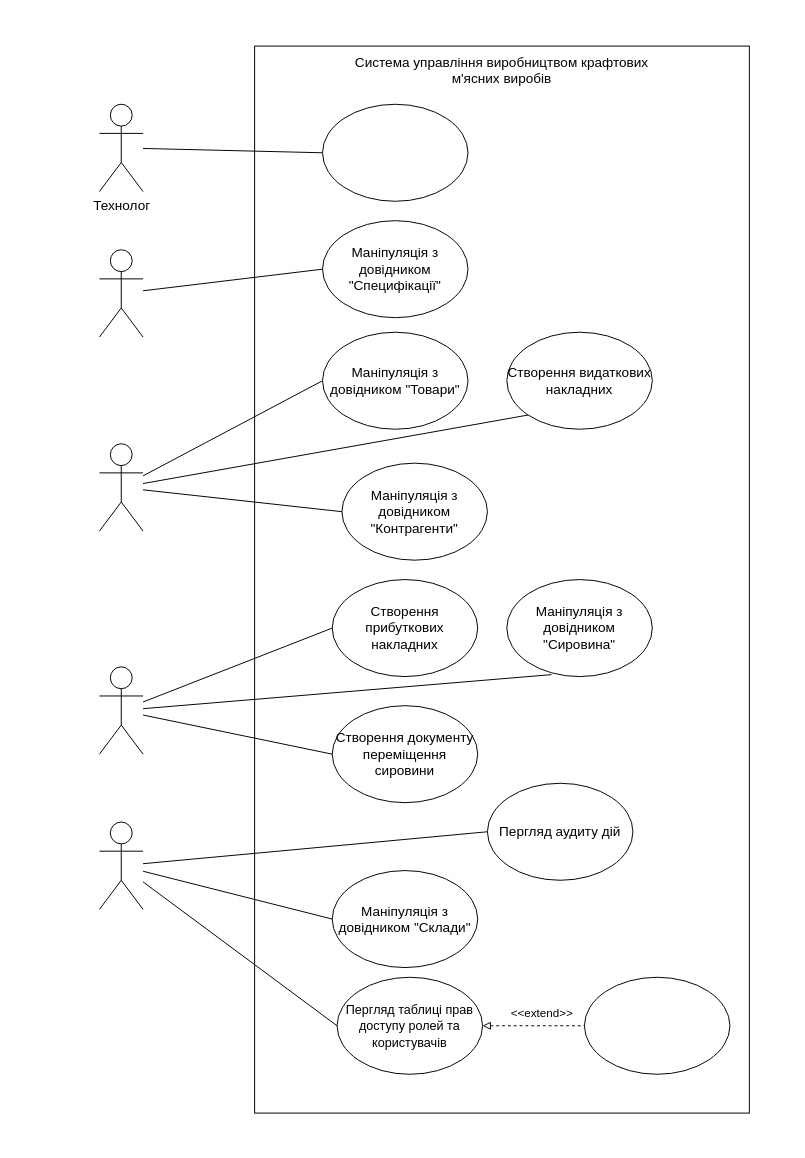
Some shapes in this 805 by 1158 pixel diagram are drawn without their labels. Here are the shapes that lost their labels. From the top down, the box of each, then its label:
(322, 103, 468, 201): Створення документу виробництва
(98, 249, 143, 337): Економіст
(98, 443, 143, 531): Керівник складу готової продукції
(98, 666, 143, 754): Комірник
(98, 821, 143, 909): Адміністратор
(583, 976, 730, 1074): Маніпуляція ролей
